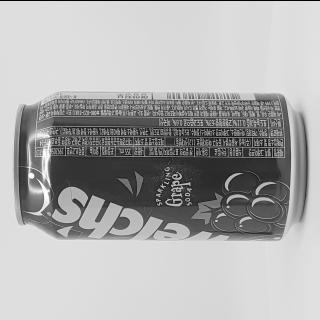alumunium_can: (10, 82, 312, 246)
